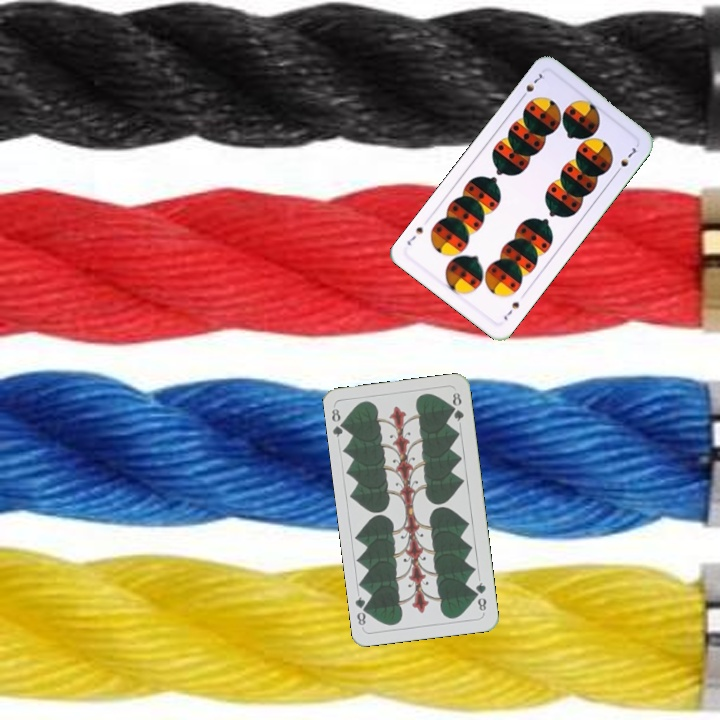G8: (328, 405, 349, 440), (471, 578, 489, 615)
S7: (516, 68, 548, 102), (499, 298, 522, 323)
